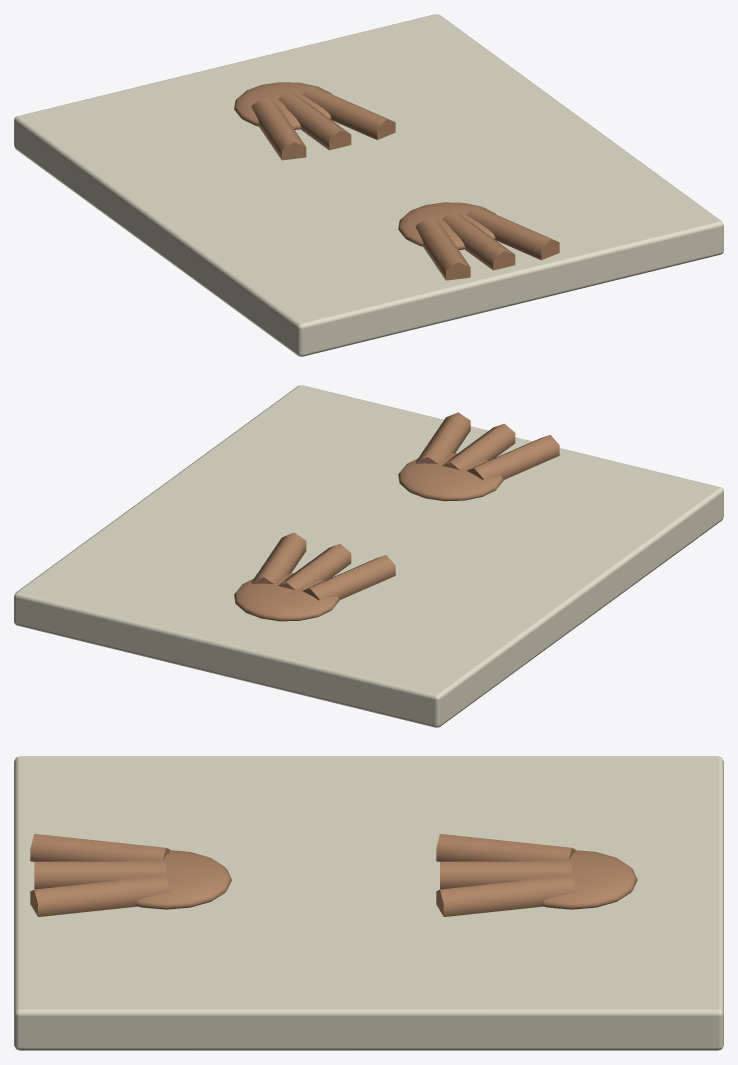
Rendered from prehistoric-expedition-sites-trackway-cast-46e55d5d__26114.glb.
3 renders of one model, top to bottom at view 1: azimuth 30°, elevation 25°; view 2: azimuth 150°, elevation 25°; view 3: azimuth 270°, elevation 25°, orthographic. The views are drawn at different scales.
Parts seen in each view (by area): view 1: trackway-cast; view 2: trackway-cast; view 3: trackway-cast.
Part boxes in pixels (<box>): trackway-cast: <box>14,14,723,356</box>; trackway-cast: <box>14,385,723,727</box>; trackway-cast: <box>14,756,723,1050</box>.
Size of the model in its own units: 0.6 by 0.068 by 0.7.
